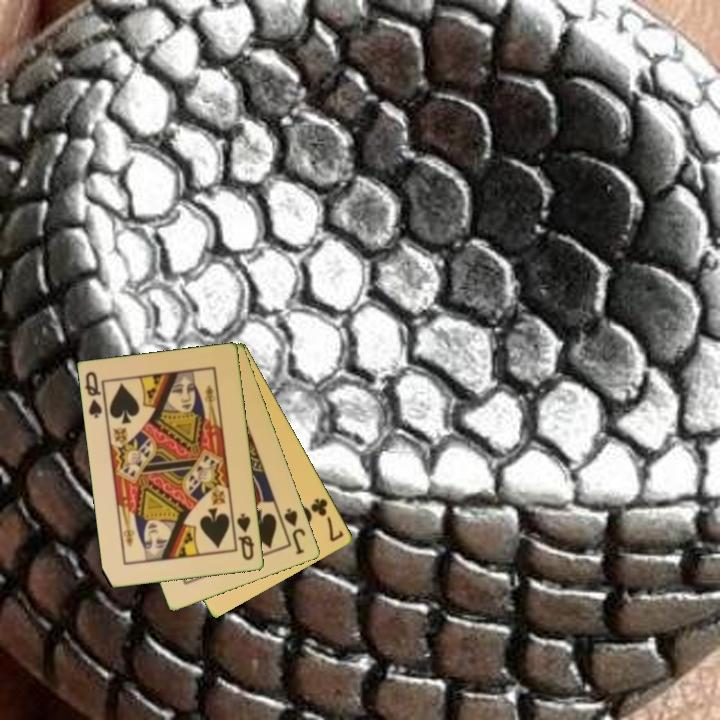7c: (308, 495, 347, 545)
Js: (281, 505, 309, 557)
Qs: (233, 510, 257, 563), (82, 368, 105, 422)
